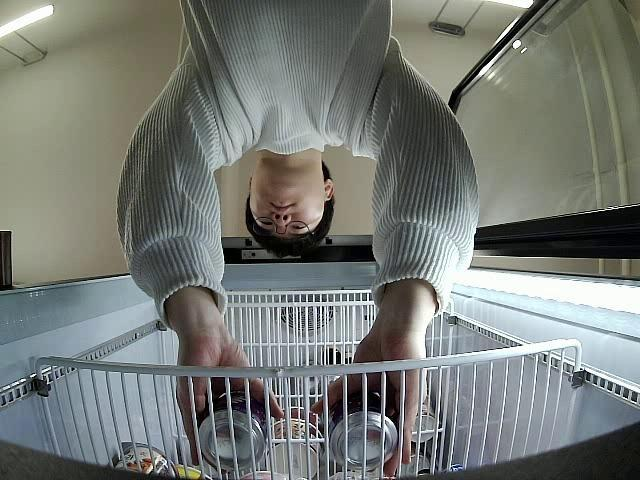14_welchsGrape: (322, 390, 398, 471), (198, 393, 268, 472)
